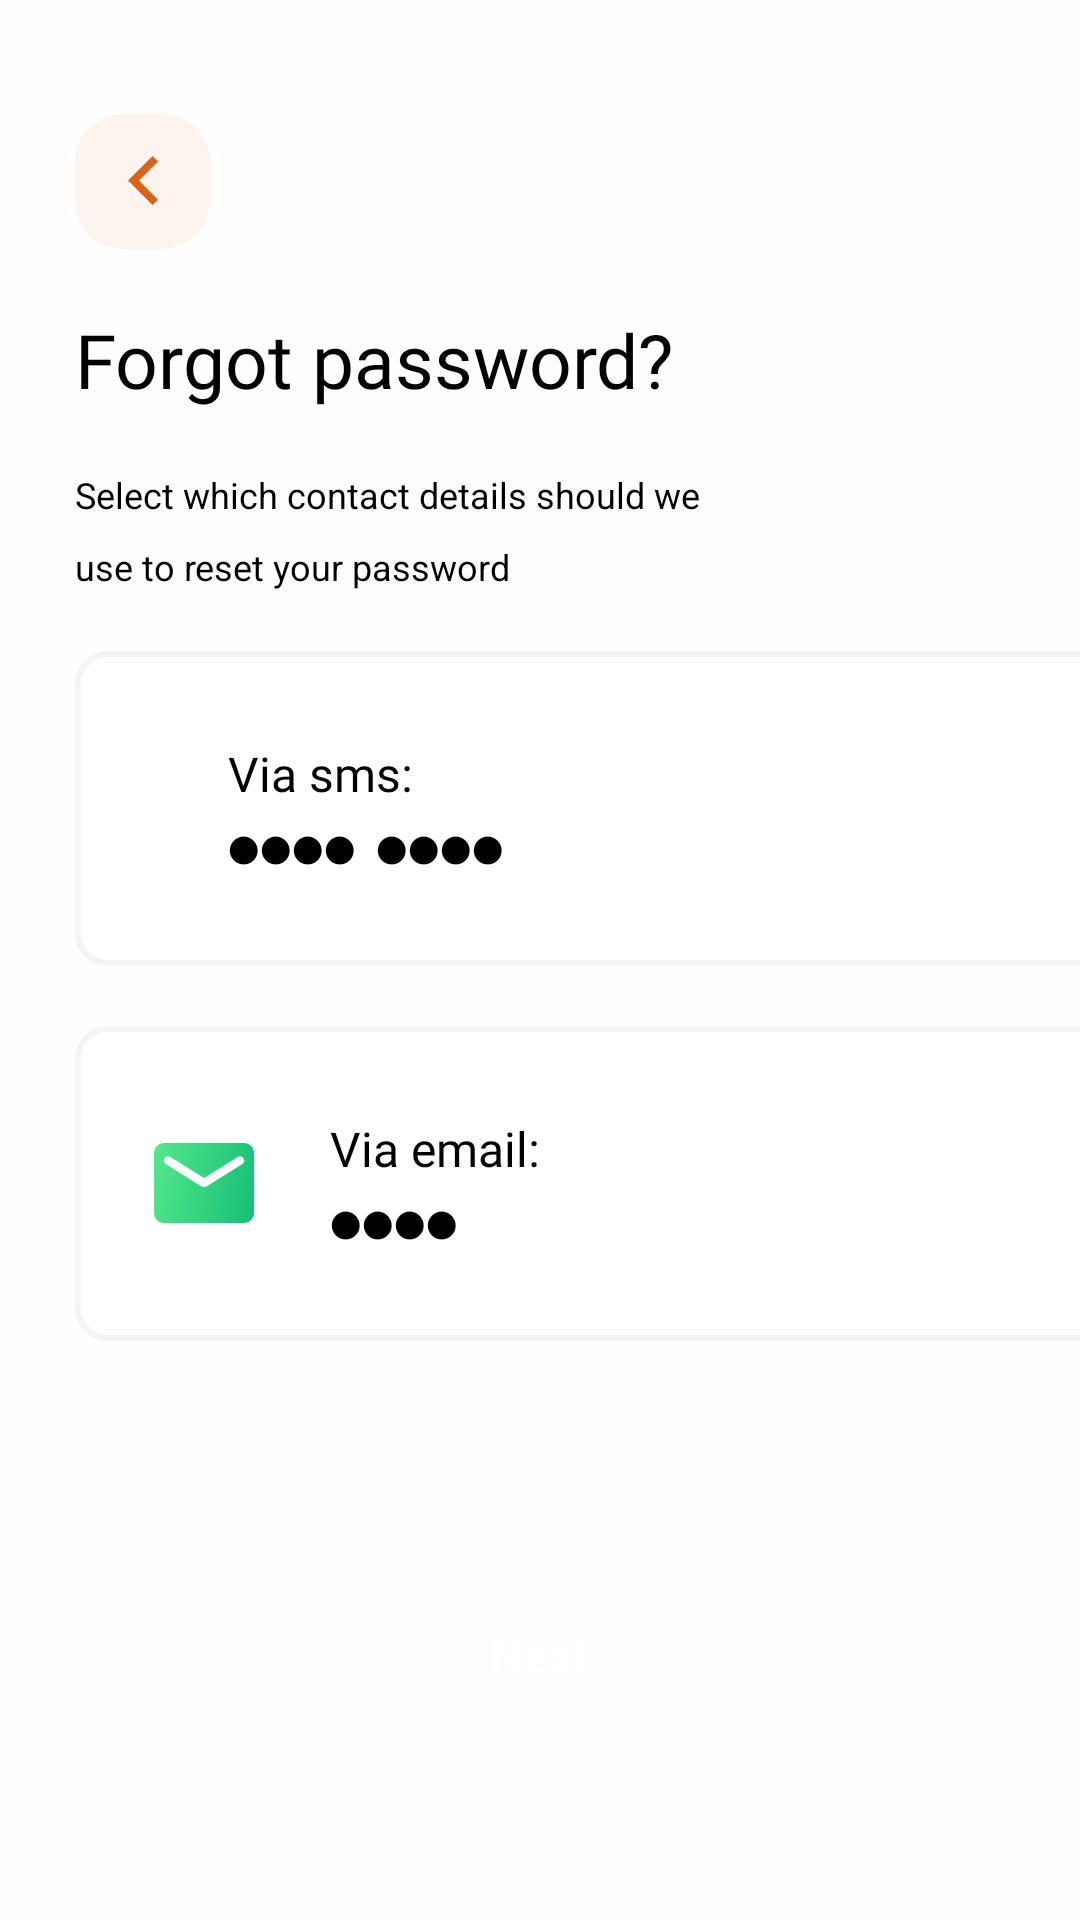

Where icons sit on this 1080 x 1920 app screen, as (x1=x1, y1=y1, x2=x2, y2=y2):
back arrow: (x1=75, y1=114, x2=210, y2=249)
